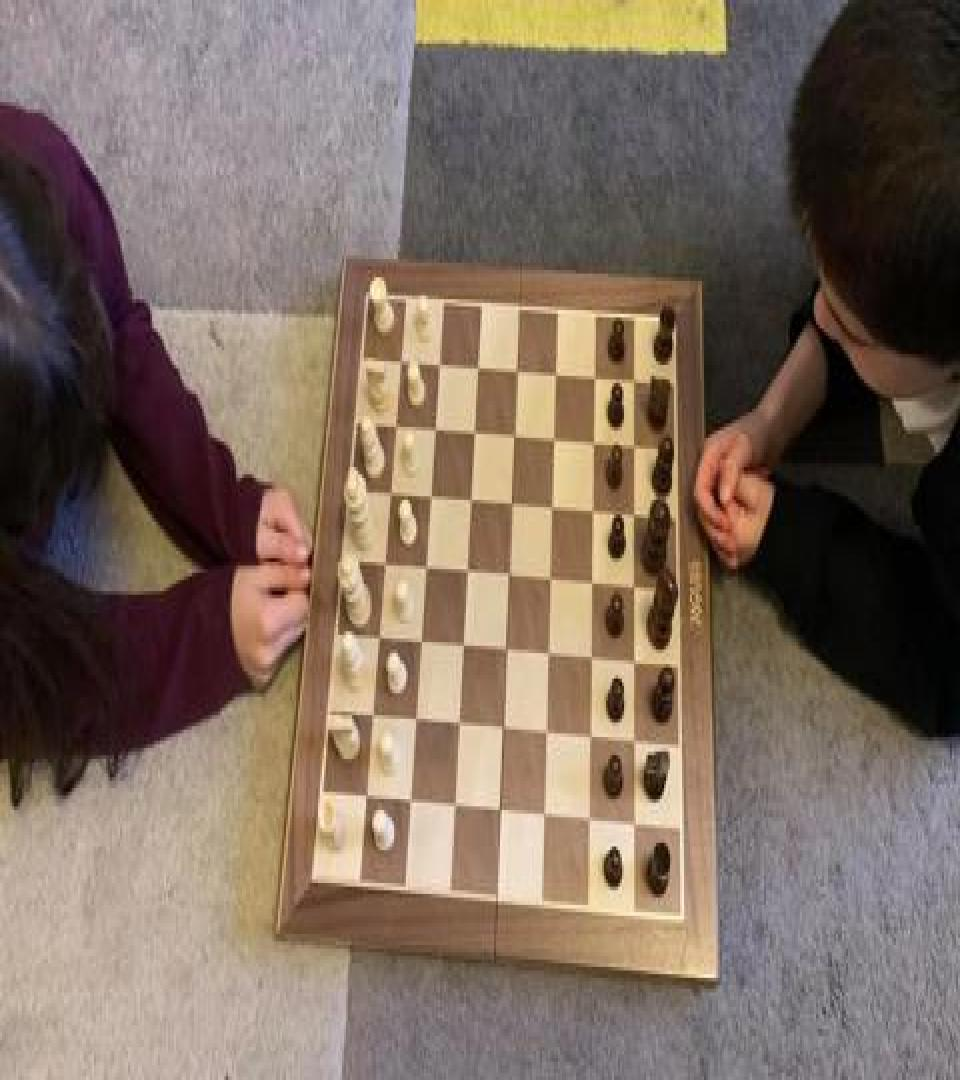xcorner: (548, 361, 562, 387), (433, 350, 447, 376), (626, 434, 640, 460), (547, 425, 561, 451), (507, 421, 521, 447), (428, 414, 442, 440), (389, 410, 403, 436), (586, 498, 600, 524), (464, 485, 478, 511), (384, 476, 398, 502), (585, 569, 599, 595), (502, 560, 516, 586), (460, 556, 474, 582), (378, 547, 392, 573), (584, 644, 598, 670), (456, 631, 470, 657), (371, 622, 385, 648), (583, 722, 597, 748), (496, 713, 510, 739), (408, 704, 422, 730), (582, 806, 596, 832), (492, 797, 506, 823), (403, 786, 417, 812), (626, 369, 640, 394), (587, 365, 601, 390), (510, 358, 524, 383), (471, 354, 485, 379), (394, 347, 408, 372), (586, 429, 600, 454), (468, 418, 482, 443), (626, 502, 640, 527), (545, 493, 559, 518), (505, 489, 519, 514), (424, 482, 438, 507), (626, 573, 640, 598), (543, 564, 557, 589), (419, 551, 433, 576), (627, 648, 641, 673), (541, 639, 555, 664), (499, 635, 513, 660), (414, 626, 428, 651), (627, 728, 641, 753), (539, 719, 553, 744), (452, 710, 466, 735), (365, 701, 379, 726), (627, 812, 641, 837), (537, 801, 551, 826), (447, 792, 461, 817), (358, 783, 372, 808)
